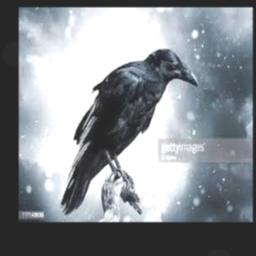Crow: (59, 47, 197, 214)
